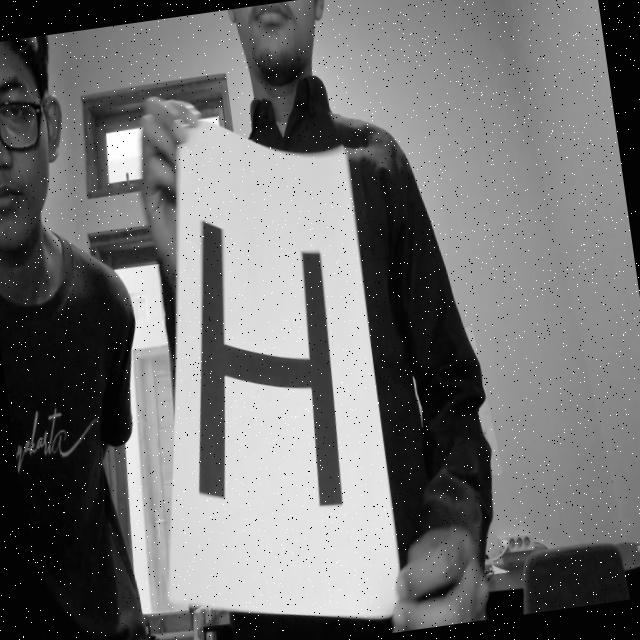h: (156, 197, 364, 546)
